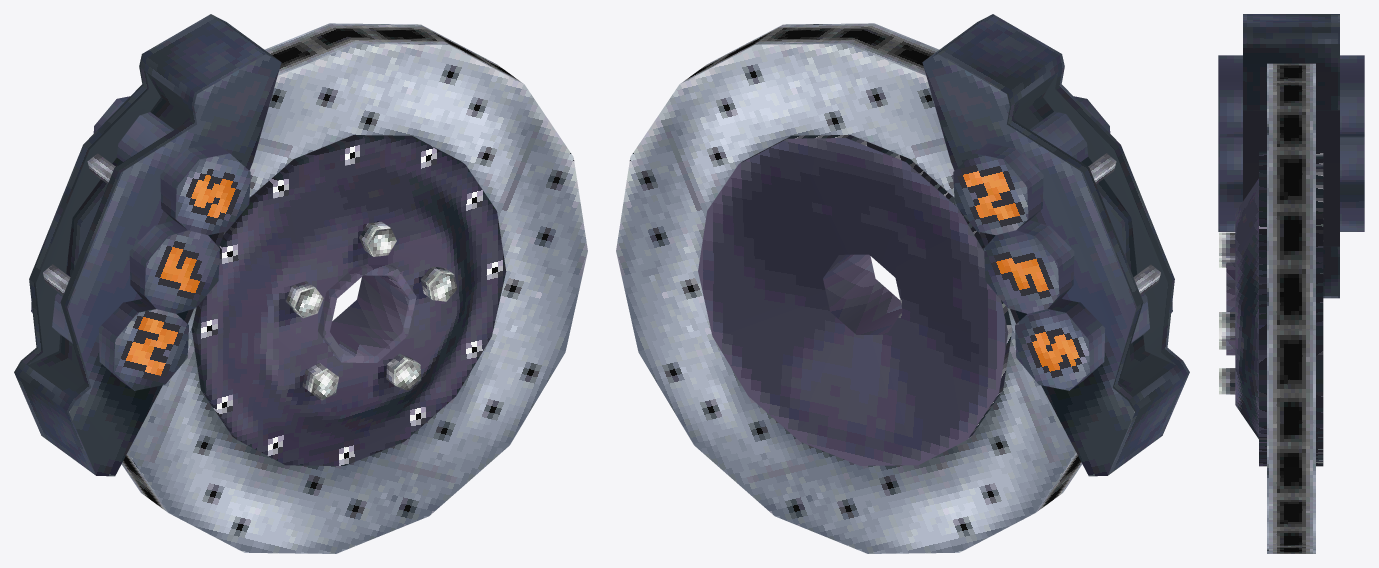
The model's file is ps2_save-icons_need-for-speed-underground.glb.
The picture shows the model from 3 angles, left to right: view 1: azimuth 30°, elevation 25°; view 2: azimuth 150°, elevation 25°; view 3: azimuth 270°, elevation 25°; orthographic projection. The views are drawn at different scales.
Visible parts, largest first — view 1: Need for Speed Underground; view 2: Need for Speed Underground; view 3: Need for Speed Underground.
Part boxes in pixels (box(x1,y1,x2,y2)): Need for Speed Underground: box(14, 14, 587, 553); Need for Speed Underground: box(616, 14, 1189, 553); Need for Speed Underground: box(1218, 14, 1364, 553).
Bounding box in the file's own units: 4.43 × 4.21 × 1.19.
Materials: 1 (1 with a texture image).
